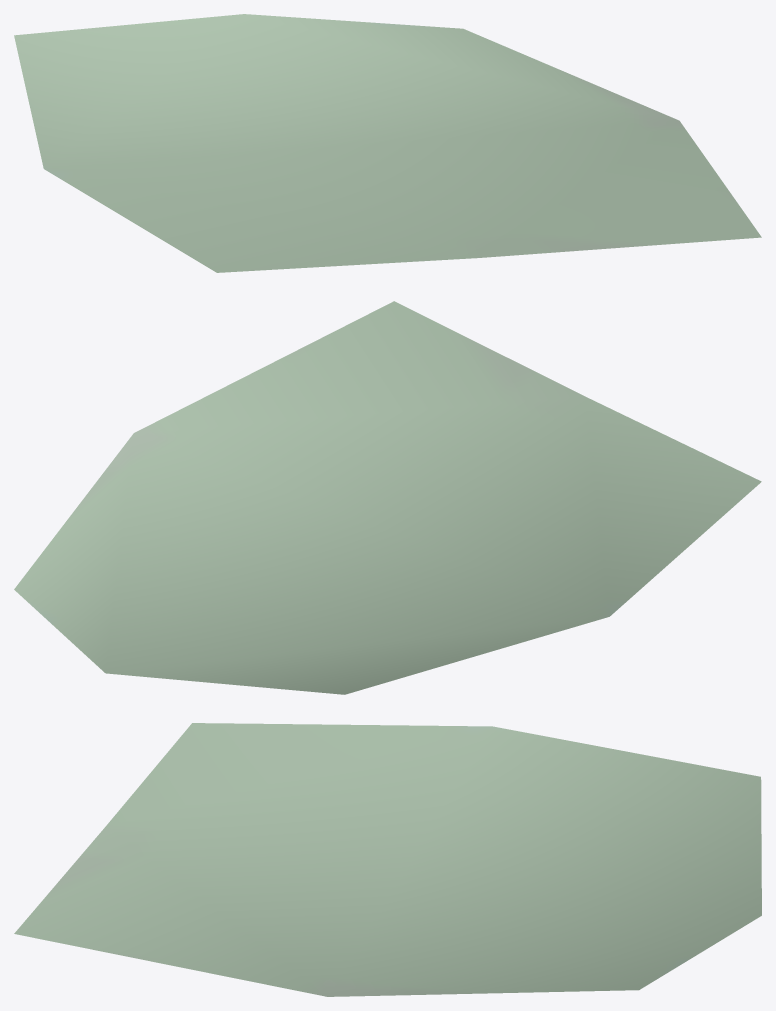
Rendered from TROLLHOLE02_HOLECAP46.fbx.
3 views of the same model, one above another, from view 1: azimuth 30°, elevation 25°; view 2: azimuth 150°, elevation 25°; view 3: azimuth 270°, elevation 25° (orthographic). The views are drawn at different scales.
Visible parts, largest first — view 1: TROLLHOLE02_HOLECAP46; view 2: TROLLHOLE02_HOLECAP46; view 3: TROLLHOLE02_HOLECAP46.
Part boxes in pixels (x1,y1,x2,y2): TROLLHOLE02_HOLECAP46: (14, 14, 761, 272); TROLLHOLE02_HOLECAP46: (14, 301, 761, 694); TROLLHOLE02_HOLECAP46: (14, 723, 761, 996).
Size of the model in its own units: 22911 by 1925 by 28855.
Materials: 1 (1 with a texture image).
